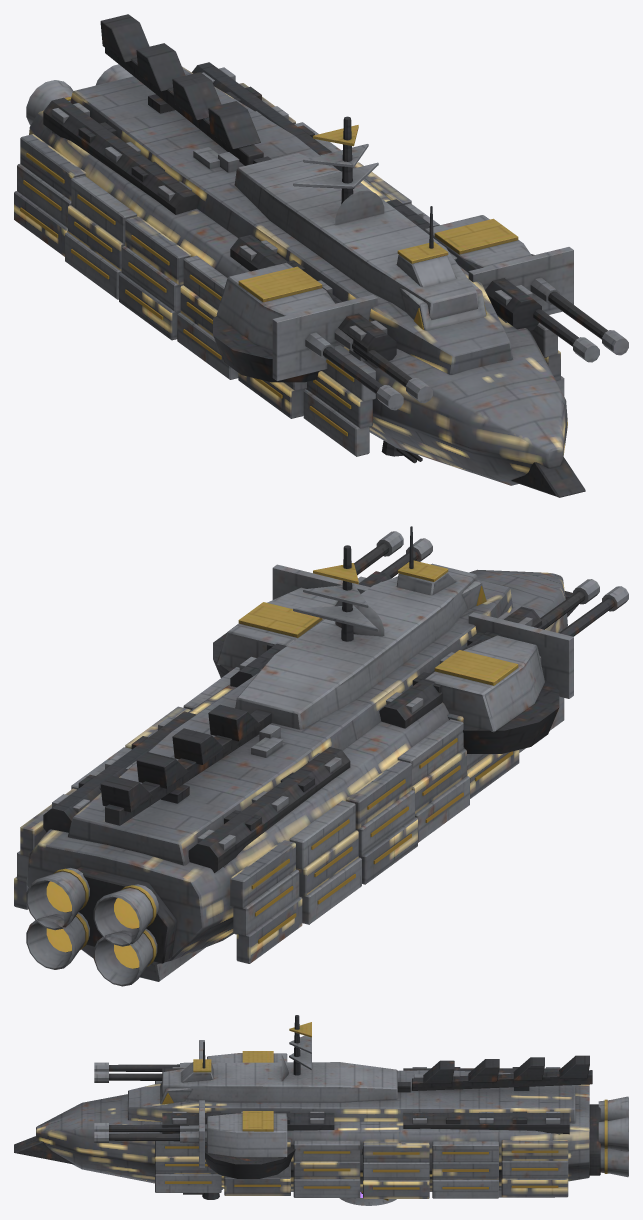
The model's file is grael_destroyer.glb.
The picture shows the model from 3 angles, top to bottom: view 1: azimuth 30°, elevation 25°; view 2: azimuth 150°, elevation 25°; view 3: azimuth 270°, elevation 25°; orthographic projection. The views are drawn at different scales.
Visible parts, largest first — view 1: HULL, SYS_WPN2, SYS_WPN1, SYS_BUS_A, SYS_BUS_F, SYS_SENSORS, SYS_BRIDGE, SYS_DRIVE; view 2: HULL, SYS_WPN2, SYS_DRIVE, SYS_BUS_A, SYS_WPN1, SYS_BUS_F, SYS_SENSORS, SYS_BRIDGE, SYS_JUMP; view 3: HULL, SYS_WPN1, SYS_BUS_A, SYS_DRIVE, SYS_WPN2, SYS_BUS_F, SYS_BRIDGE, SYS_SENSORS, SYS_DAMP.
Boxes of the visible parts, left/top/right/bottom form: HULL: left=14, top=14, right=585, bottom=497; SYS_WPN2: left=213, top=262, right=432, bottom=410; SYS_WPN1: left=424, top=215, right=628, bottom=362; SYS_BUS_A: left=43, top=62, right=342, bottom=214; SYS_BUS_F: left=230, top=199, right=541, bottom=368; SYS_SENSORS: left=293, top=116, right=384, bottom=225; SYS_BRIDGE: left=396, top=206, right=486, bottom=330; SYS_DRIVE: left=26, top=64, right=133, bottom=125; HULL: left=14, top=563, right=578, bottom=966; SYS_WPN2: left=424, top=579, right=628, bottom=753; SYS_DRIVE: left=26, top=866, right=177, bottom=986; SYS_BUS_A: left=43, top=711, right=350, bottom=872; SYS_WPN1: left=213, top=531, right=432, bottom=677; SYS_BUS_F: left=230, top=571, right=541, bottom=728; SYS_SENSORS: left=293, top=545, right=384, bottom=641; SYS_BRIDGE: left=396, top=526, right=486, bottom=609; SYS_JUMP: left=140, top=947, right=205, bottom=981; HULL: left=14, top=1055, right=592, bottom=1198; SYS_WPN1: left=94, top=1100, right=295, bottom=1178; SYS_BUS_A: left=403, top=1067, right=569, bottom=1134; SYS_DRIVE: left=589, top=1096, right=628, bottom=1177; SYS_WPN2: left=94, top=1040, right=287, bottom=1082; SYS_BUS_F: left=162, top=1067, right=334, bottom=1133; SYS_BRIDGE: left=160, top=1041, right=213, bottom=1104; SYS_SENSORS: left=281, top=1015, right=311, bottom=1080; SYS_DAMP: left=339, top=1192, right=396, bottom=1205.
Size of the model in its own units: 18.87 by 15.81 by 49.04.
Materials: 1 (1 with a texture image).
